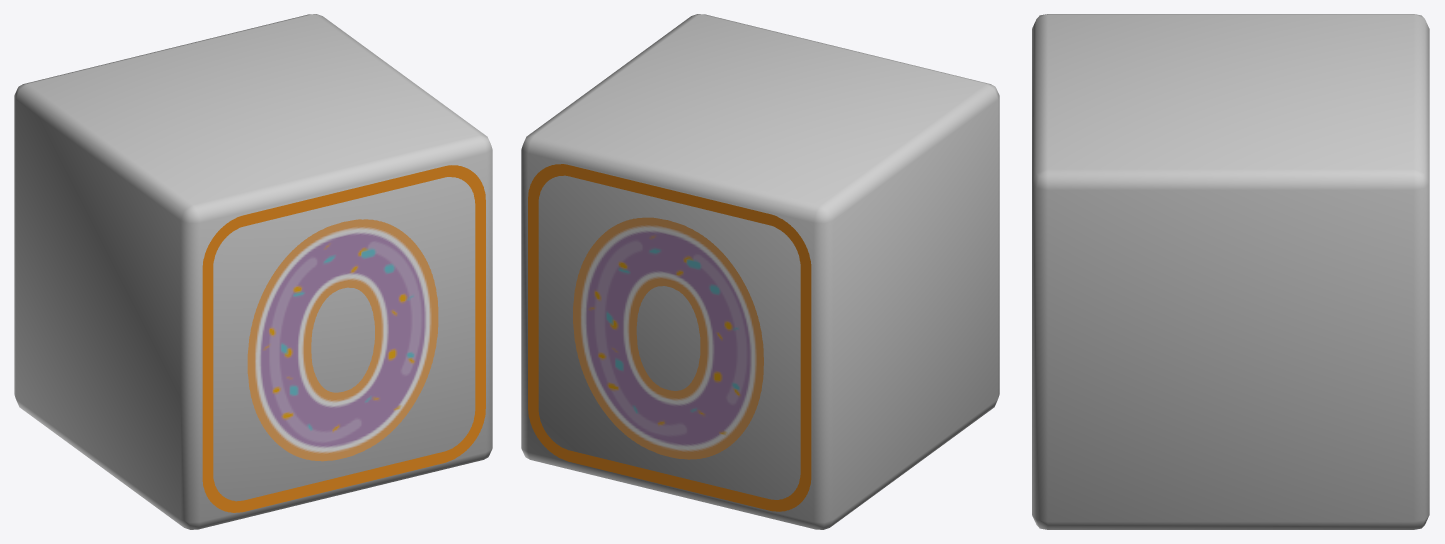
The model's file is Child_Cube_O.FBX.
The picture shows the model from 3 angles, left to right: view 1: azimuth 30°, elevation 25°; view 2: azimuth 150°, elevation 25°; view 3: azimuth 270°, elevation 25°; orthographic projection. The views are drawn at different scales.
Parts seen in each view (by area): view 1: Child_Cube_O; view 2: Child_Cube_O; view 3: Child_Cube_O.
Part boxes in pixels (x1=…): Child_Cube_O: x1=14, y1=14, x2=492, y2=529; Child_Cube_O: x1=521, y1=14, x2=999, y2=529; Child_Cube_O: x1=1032, y1=14, x2=1429, y2=529.
Size of the model in its own units: 0.2122 by 0.2122 by 0.2149.
